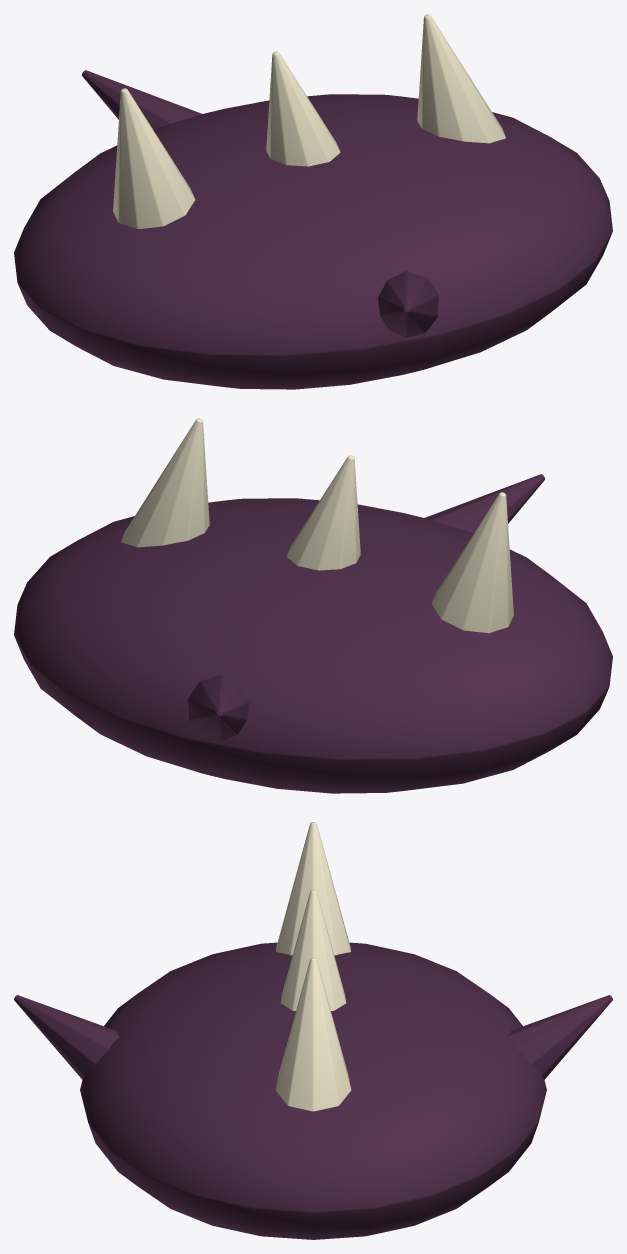
Rendered from shell_plate.glb.
3 views of the same model, one above another, from view 1: azimuth 30°, elevation 25°; view 2: azimuth 150°, elevation 25°; view 3: azimuth 270°, elevation 25° (orthographic). The views are drawn at different scales.
Visible parts, largest first — view 1: shell_plate; view 2: shell_plate; view 3: shell_plate.
Part boxes in pixels (x1=…): shell_plate: x1=14, y1=14, x2=612, y2=389; shell_plate: x1=14, y1=418, x2=612, y2=793; shell_plate: x1=14, y1=822, x2=612, y2=1239.
Bounding box in the file's own units: 1.44 × 0.7413 × 1.49.
